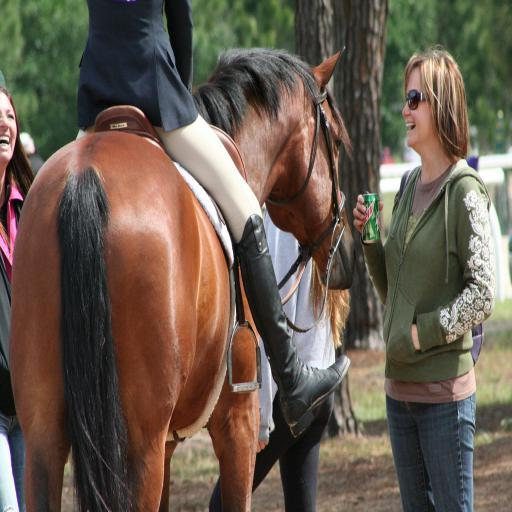Horse: (9, 42, 357, 510)
